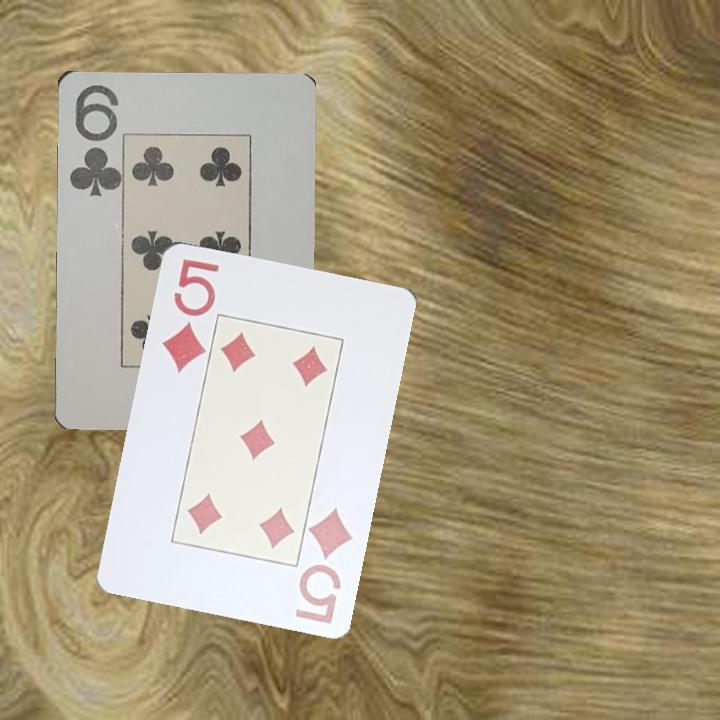5d: (291, 503, 356, 627), (158, 254, 222, 375)
6c: (65, 80, 120, 199)
